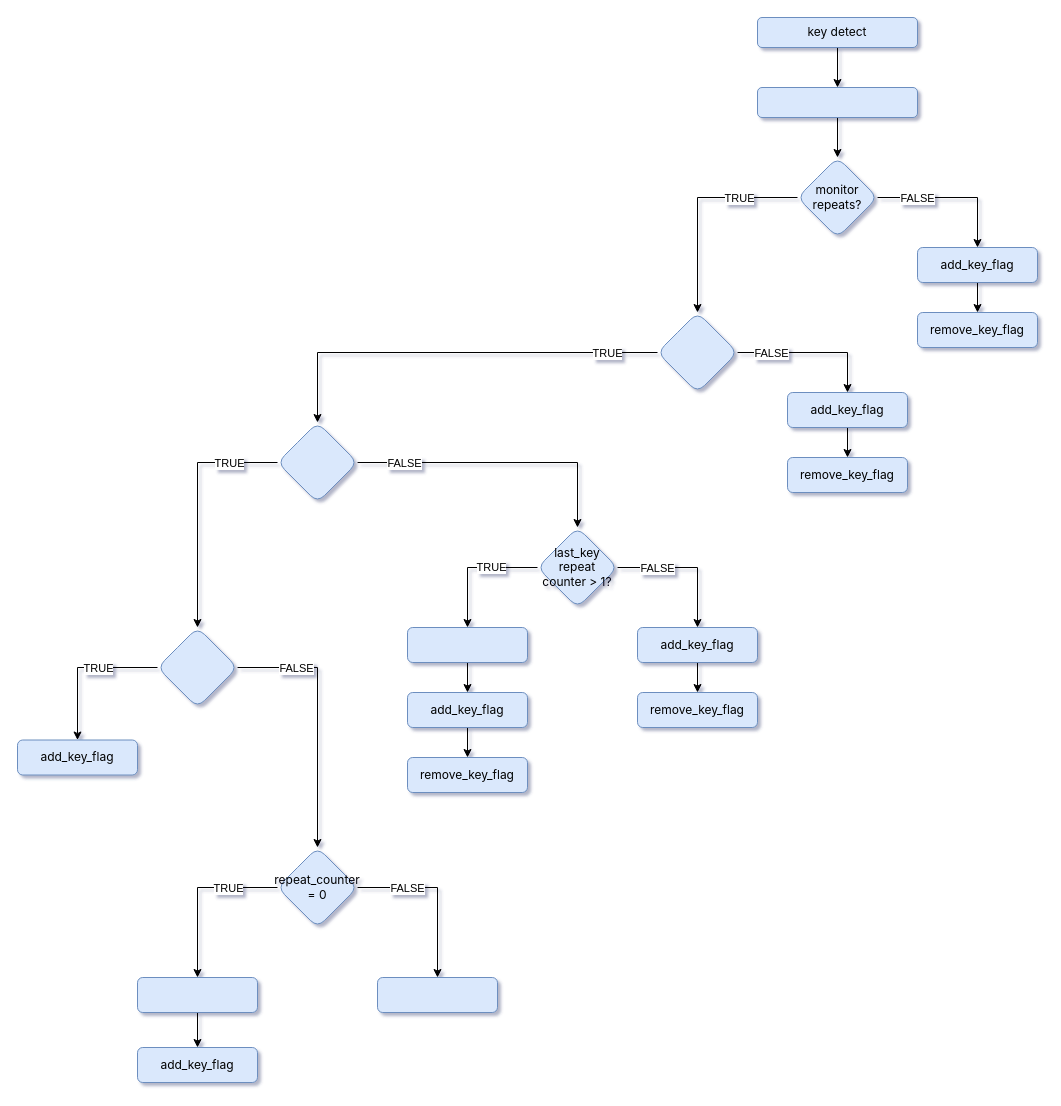
Some shapes in this 1061 by 1106 pixel diagram are drawn without their labels. The shapes that lost their labels are listed below. From the top down, each one's centre as x and y in pixels, then its label:
(x=837, y=102): add to display
(x=697, y=352): last_key != None
(x=317, y=462): key = last_key?
(x=467, y=644): remove_key_grid_child_flag
(x=197, y=667): key_grid_children_count = 0?
(x=197, y=994): add counter overlay
(x=437, y=994): counter += 1
